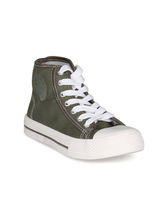shoes: (15, 51, 149, 162)
